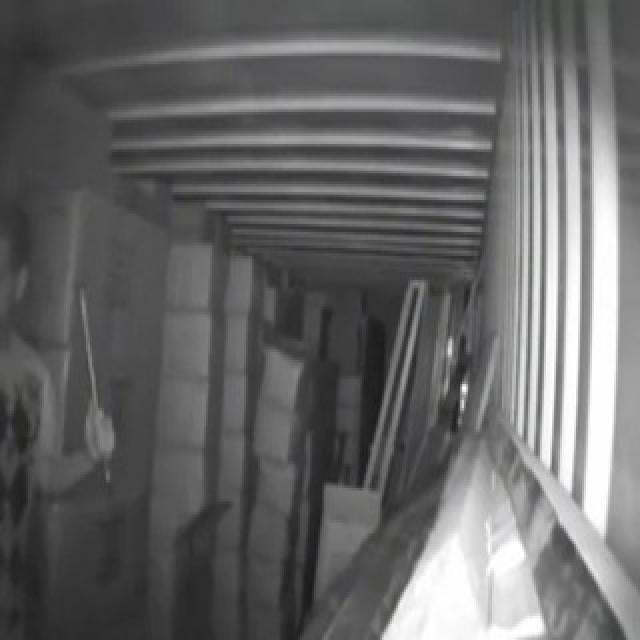thief: (0, 232, 121, 634)
